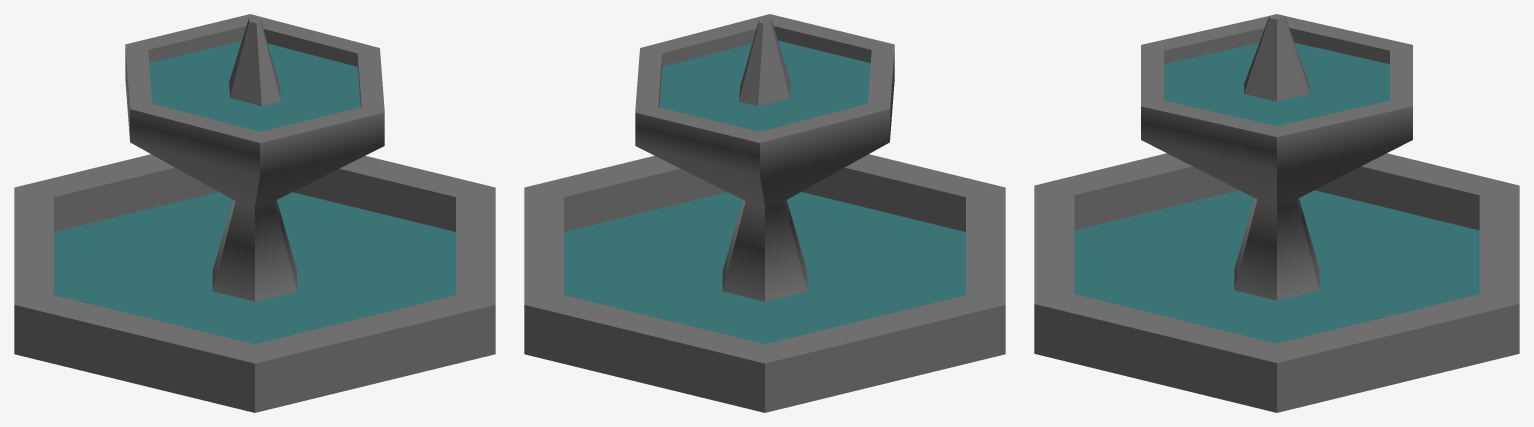
File: fiskiye.fbx
The picture shows the model from 3 angles, left to right: view 1: azimuth 30°, elevation 25°; view 2: azimuth 150°, elevation 25°; view 3: azimuth 270°, elevation 25°; orthographic projection.
Visible parts, largest first — view 1: Fiskiye; view 2: Fiskiye; view 3: Fiskiye.
Boxes of the visible parts, x1,y1,x2,y2 form: Fiskiye: (14,14,495,412); Fiskiye: (524,14,1005,412); Fiskiye: (1034,14,1519,412).
Bounding box in the file's own units: 9.97 × 5.46 × 8.64.
